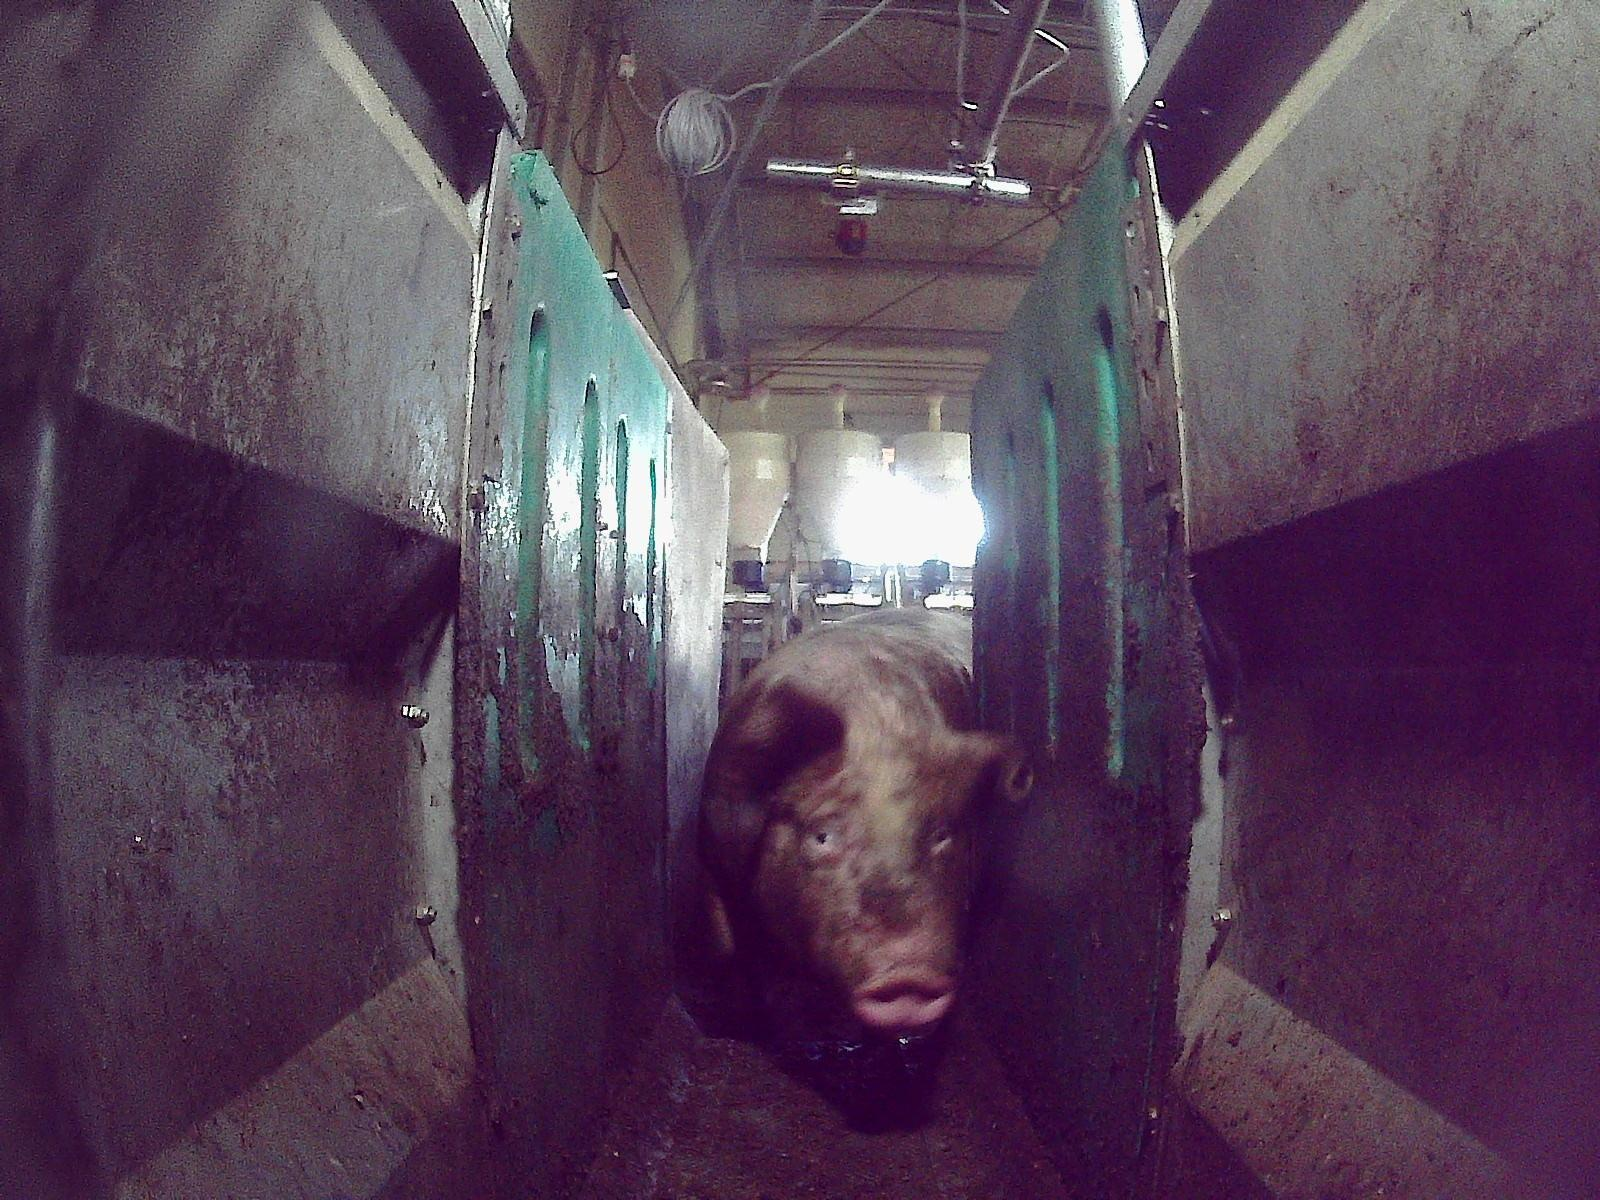Face: (769, 728, 964, 1027)
